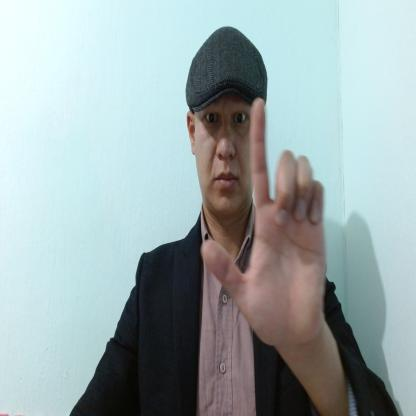L: (200, 100, 326, 350)
